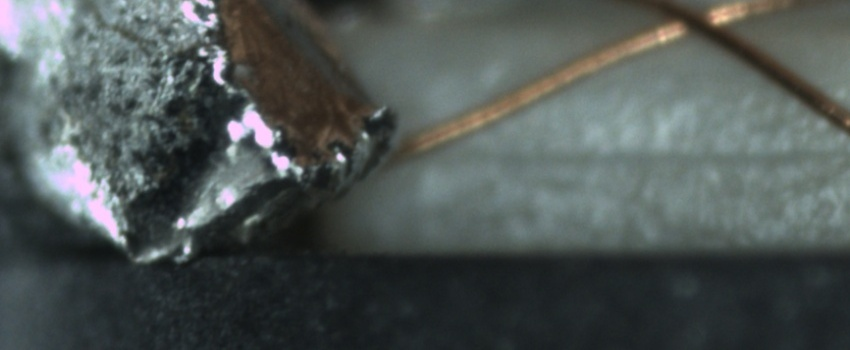CL: (639, 2, 753, 46)
DL: (411, 128, 850, 192)
